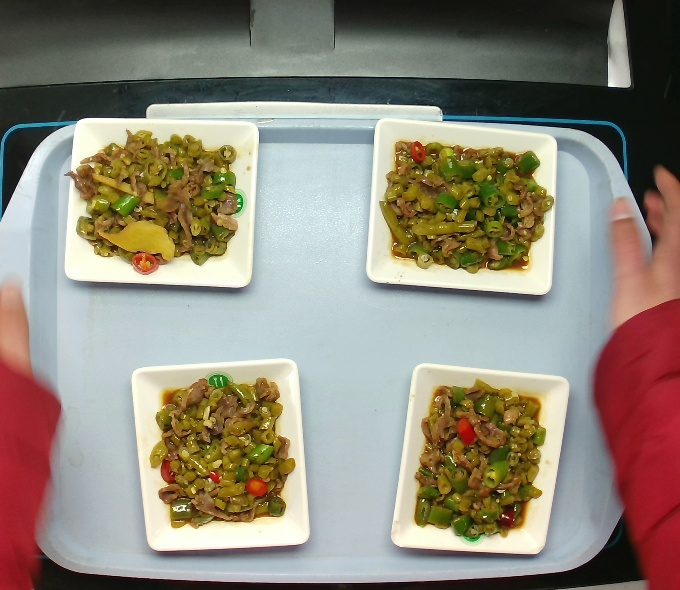wcq-SuanDouJiaoChaoJiZhen: (63, 126, 245, 273), (373, 135, 555, 282), (149, 377, 299, 531), (407, 384, 543, 546)
